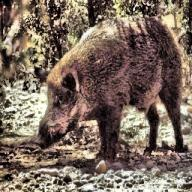boar: (34, 15, 185, 162)
